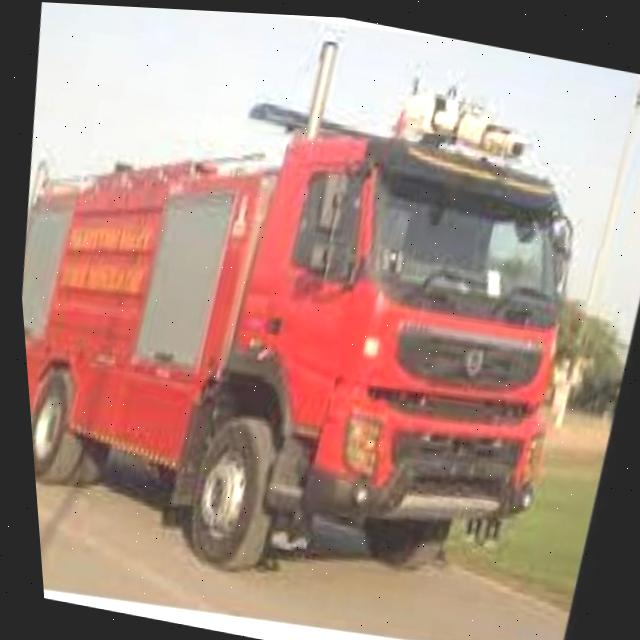emergency: (1, 10, 612, 630)
